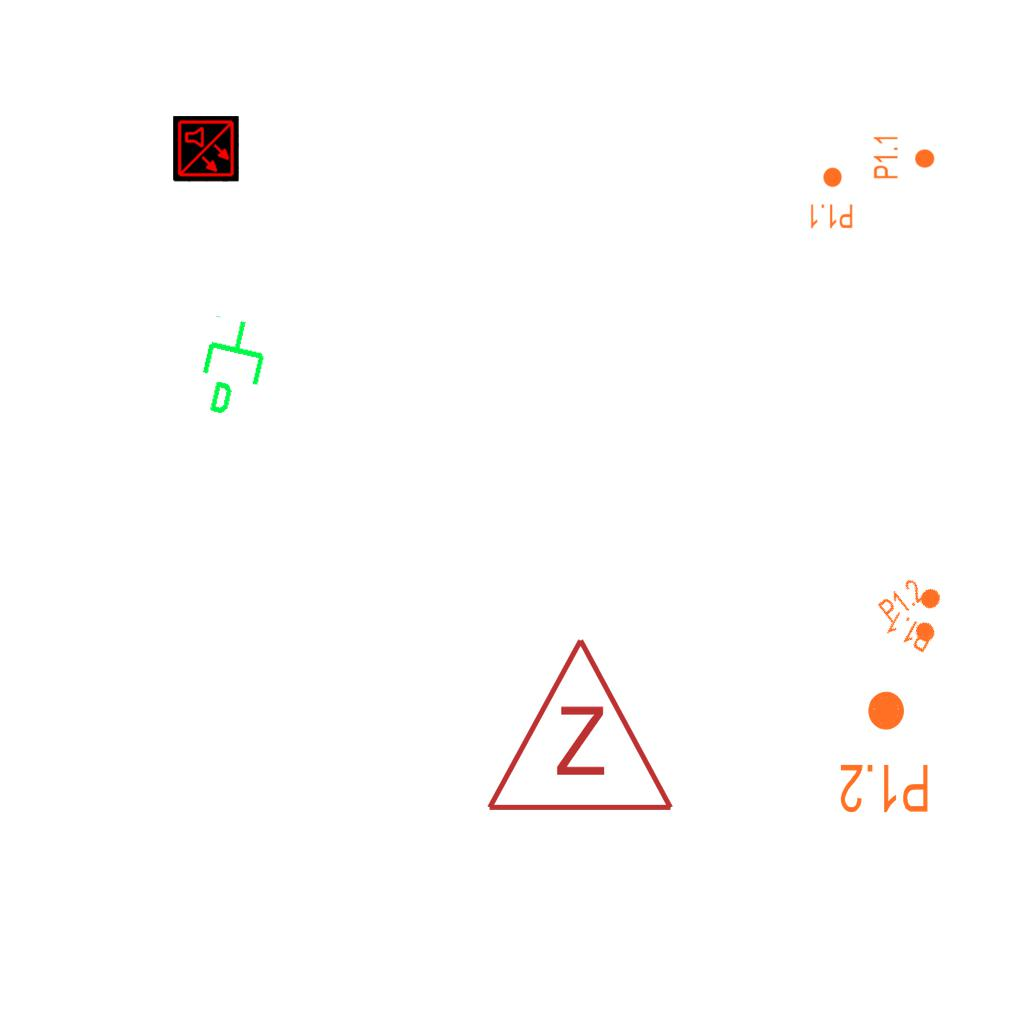Datenanschluss_einfach: (189, 311, 280, 425)
Downlight_LED_Einbauleuchten_Flur: (838, 688, 931, 816), (875, 575, 951, 655), (883, 576, 955, 656), (872, 134, 936, 180), (808, 166, 854, 230)
OKW_Multisensormelder_(Kombination_optischer_Rauch-Kahlenmonoxid_Waerme-Melder): (173, 116, 239, 182)
Zimmersignalleuchte: (480, 625, 676, 825)
